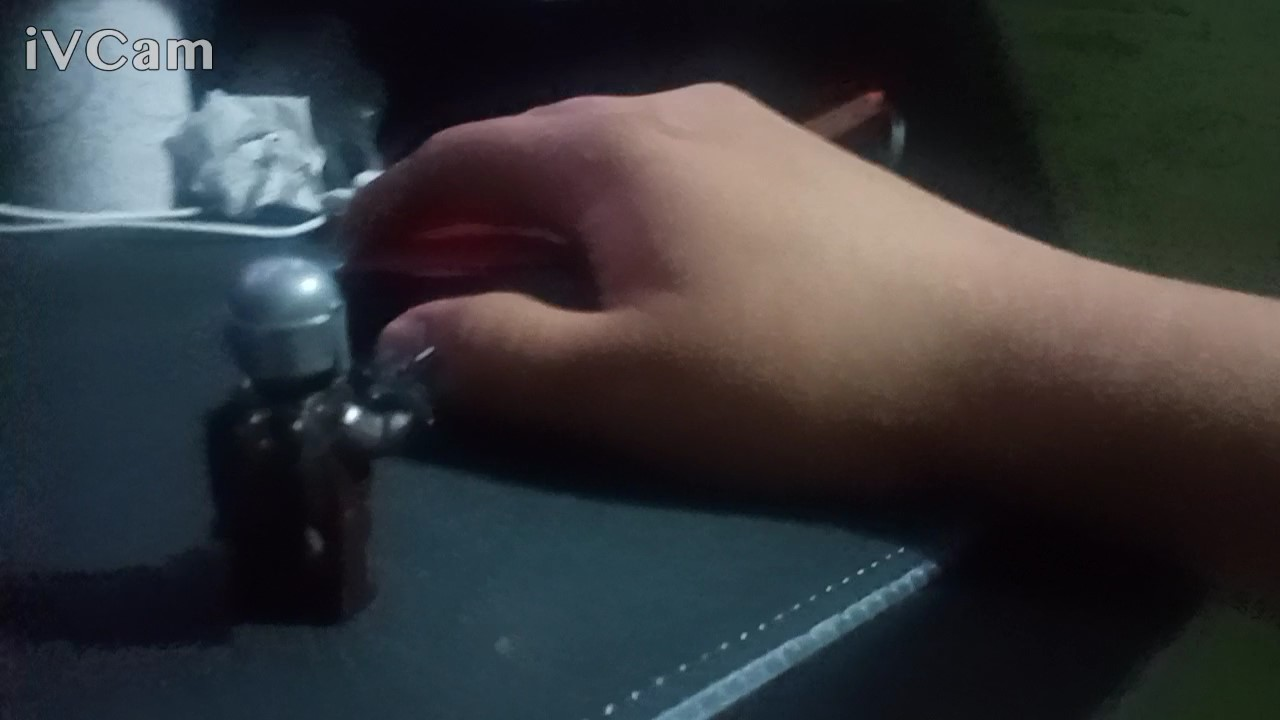mandalorian: (191, 253, 448, 639)
